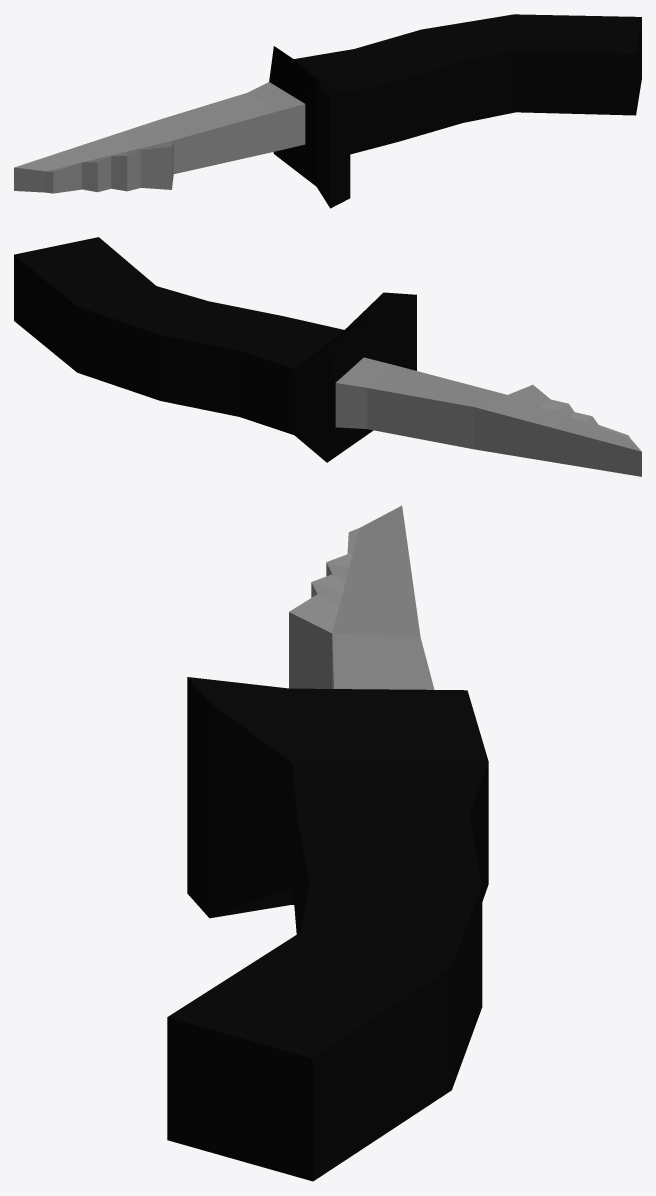
The model's file is CombatKnife.fbx.
3 views of the same model, one above another, from view 1: azimuth 30°, elevation 25°; view 2: azimuth 150°, elevation 25°; view 3: azimuth 270°, elevation 25° (orthographic). The views are drawn at different scales.
Parts seen in each view (by area): view 1: CombatKnife; view 2: CombatKnife; view 3: CombatKnife.
Boxes of the visible parts, bbox=[...] form: CombatKnife: bbox=[14, 14, 641, 208]; CombatKnife: bbox=[14, 237, 641, 476]; CombatKnife: bbox=[167, 505, 488, 1181].
Bounding box in the file's own units: 1171 × 200 × 269.
